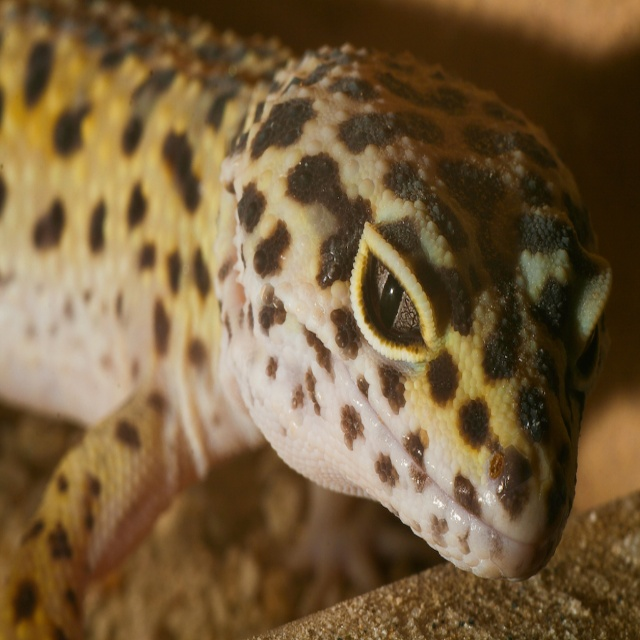Lizard: (14, 40, 625, 640)
